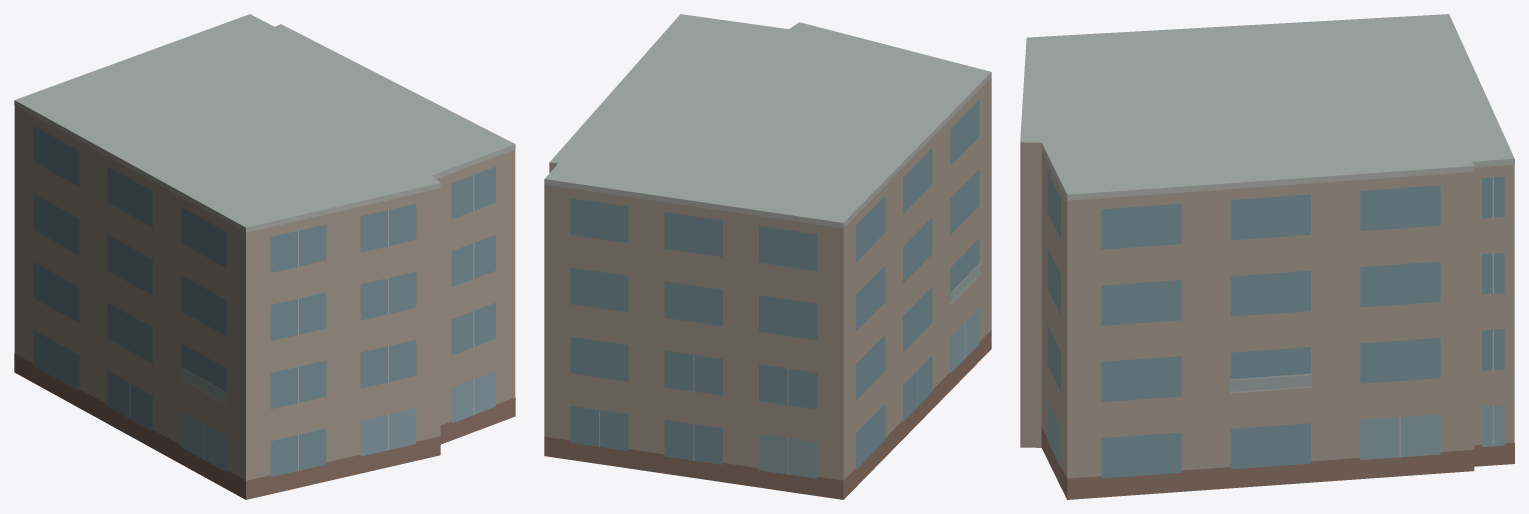
Rendered from survey-upis-32835620.glb.
The picture shows the model from 3 angles, left to right: view 1: azimuth 30°, elevation 25°; view 2: azimuth 150°, elevation 25°; view 3: azimuth 270°, elevation 25°; orthographic projection. The views are drawn at different scales.
Parts seen in each view (by area): view 1: survey-upis-32835620.tmp; view 2: survey-upis-32835620.tmp; view 3: survey-upis-32835620.tmp.
Part boxes in pixels (left/top/right/bottom): survey-upis-32835620.tmp: left=14, top=14, right=515, bottom=499; survey-upis-32835620.tmp: left=544, top=14, right=991, bottom=499; survey-upis-32835620.tmp: left=1020, top=14, right=1514, bottom=499.
Size of the model in its own units: 16.02 by 12.6 by 18.53.
